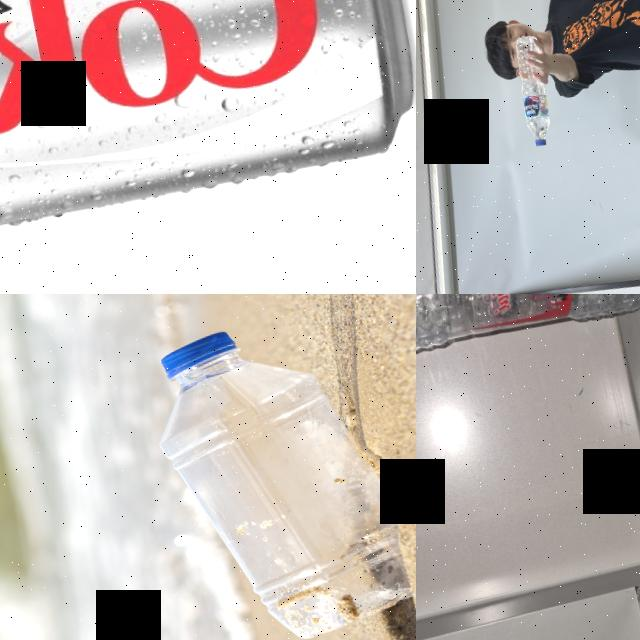bottle: (140, 303, 416, 640), (416, 294, 640, 383), (510, 32, 559, 149)
can: (0, 0, 416, 266)
